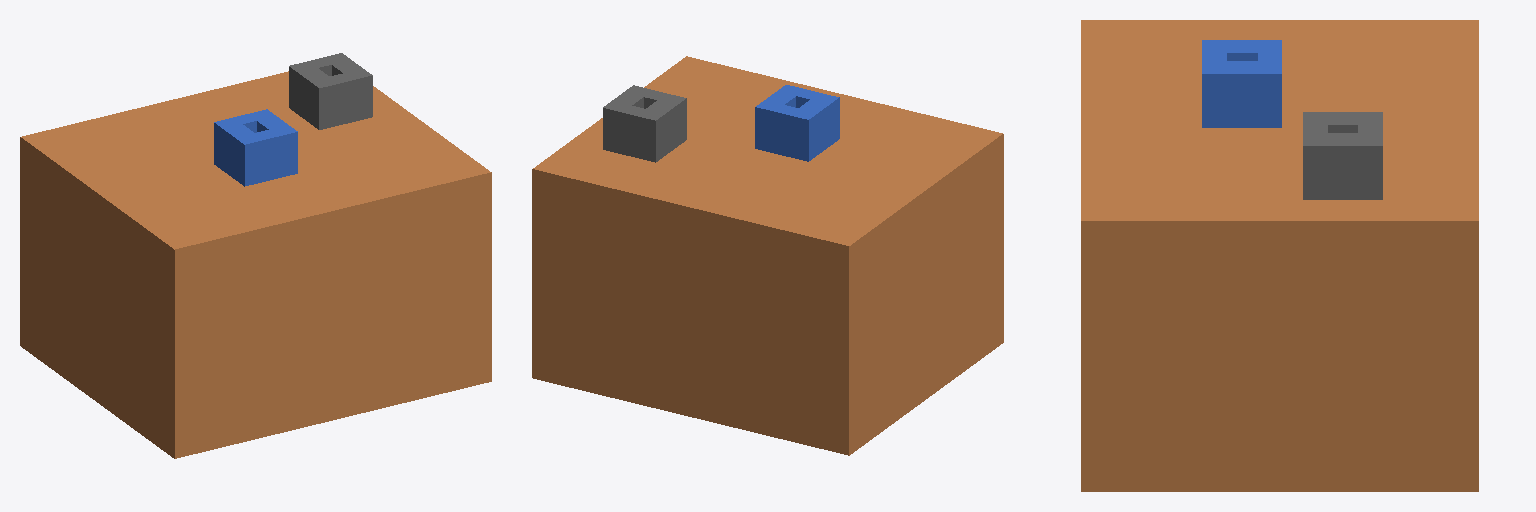
URDF robot description (peg_in_hole_fixtured_scene_0027_peg0009_tol00):
<?xml version="1.0"?>
<robot name="peg_in_hole_fixtured_scene_0027_peg0009_tol00">
  <material name="wood"><color rgba="0.82 0.56 0.35 1.0"/></material>
  <material name="start_fix"><color rgba="0.30 0.50 0.85 1.0"/></material>
  <material name="goal_fix"><color rgba="0.4706 0.4706 0.4706 1.0"/></material>
  <link name="box">
    <visual>
      <origin xyz="0.000000 0.000000 0.000000" rpy="0 0 0"/>
      <geometry><box size="0.475000 0.400000 0.300000"/></geometry>
      <material name="wood"/>
    </visual>
    <collision>
      <origin xyz="0.000000 0.000000 0.000000" rpy="0 0 0"/>
      <geometry><box size="0.475000 0.400000 0.300000"/></geometry>
    </collision>
    <visual>
      <origin xyz="-0.022136 -0.038031 0.155000" rpy="0 0 0"/>
      <geometry><box size="0.080000 0.080000 0.010000"/></geometry>
      <material name="start_fix"/>
    </visual>
    <collision>
      <origin xyz="-0.022136 -0.038031 0.155000" rpy="0 0 0"/>
      <geometry><box size="0.080000 0.080000 0.010000"/></geometry>
    </collision>
    <visual>
      <origin xyz="0.003114 -0.038031 0.185000" rpy="0 0 0"/>
      <geometry><box size="0.029500 0.080000 0.050000"/></geometry>
      <material name="start_fix"/>
    </visual>
    <collision>
      <origin xyz="0.003114 -0.038031 0.185000" rpy="0 0 0"/>
      <geometry><box size="0.029500 0.080000 0.050000"/></geometry>
    </collision>
    <visual>
      <origin xyz="-0.047386 -0.038031 0.185000" rpy="0 0 0"/>
      <geometry><box size="0.029500 0.080000 0.050000"/></geometry>
      <material name="start_fix"/>
    </visual>
    <collision>
      <origin xyz="-0.047386 -0.038031 0.185000" rpy="0 0 0"/>
      <geometry><box size="0.029500 0.080000 0.050000"/></geometry>
    </collision>
    <visual>
      <origin xyz="-0.022136 -0.010281 0.185000" rpy="0 0 0"/>
      <geometry><box size="0.021000 0.024500 0.050000"/></geometry>
      <material name="start_fix"/>
    </visual>
    <collision>
      <origin xyz="-0.022136 -0.010281 0.185000" rpy="0 0 0"/>
      <geometry><box size="0.021000 0.024500 0.050000"/></geometry>
    </collision>
    <visual>
      <origin xyz="-0.022136 -0.065781 0.185000" rpy="0 0 0"/>
      <geometry><box size="0.021000 0.024500 0.050000"/></geometry>
      <material name="start_fix"/>
    </visual>
    <collision>
      <origin xyz="-0.022136 -0.065781 0.185000" rpy="0 0 0"/>
      <geometry><box size="0.021000 0.024500 0.050000"/></geometry>
    </collision>
    <visual>
      <origin xyz="0.148422 0.063166 0.155000" rpy="0 0 0"/>
      <geometry><box size="0.080000 0.080000 0.010000"/></geometry>
      <material name="goal_fix"/>
    </visual>
    <collision>
      <origin xyz="0.148422 0.063166 0.155000" rpy="0 0 0"/>
      <geometry><box size="0.080000 0.080000 0.010000"/></geometry>
    </collision>
    <visual>
      <origin xyz="0.173522 0.063166 0.185000" rpy="0 0 0"/>
      <geometry><box size="0.029800 0.080000 0.050000"/></geometry>
      <material name="goal_fix"/>
    </visual>
    <collision>
      <origin xyz="0.173522 0.063166 0.185000" rpy="0 0 0"/>
      <geometry><box size="0.029800 0.080000 0.050000"/></geometry>
    </collision>
    <visual>
      <origin xyz="0.123322 0.063166 0.185000" rpy="0 0 0"/>
      <geometry><box size="0.029800 0.080000 0.050000"/></geometry>
      <material name="goal_fix"/>
    </visual>
    <collision>
      <origin xyz="0.123322 0.063166 0.185000" rpy="0 0 0"/>
      <geometry><box size="0.029800 0.080000 0.050000"/></geometry>
    </collision>
    <visual>
      <origin xyz="0.148422 0.090766 0.185000" rpy="0 0 0"/>
      <geometry><box size="0.020400 0.024800 0.050000"/></geometry>
      <material name="goal_fix"/>
    </visual>
    <collision>
      <origin xyz="0.148422 0.090766 0.185000" rpy="0 0 0"/>
      <geometry><box size="0.020400 0.024800 0.050000"/></geometry>
    </collision>
    <visual>
      <origin xyz="0.148422 0.035566 0.185000" rpy="0 0 0"/>
      <geometry><box size="0.020400 0.024800 0.050000"/></geometry>
      <material name="goal_fix"/>
    </visual>
    <collision>
      <origin xyz="0.148422 0.035566 0.185000" rpy="0 0 0"/>
      <geometry><box size="0.020400 0.024800 0.050000"/></geometry>
    </collision>
    <inertial>
      <mass value="500"/>
      <friction value="1.0"/>
      <inertia ixx="1000.0" ixy="0.0" ixz="0.0" iyy="1000.0" iyz="0.0" izz="1000.0"/>
    </inertial>
  </link>
</robot>

--- What the picture shows (computed from the rendered views, not written in the file) ---
3 views of the same robot in one strip: view 1: azimuth 30°, elevation 25°; view 2: azimuth 150°, elevation 25°; view 3: azimuth 270°, elevation 25° (orthographic).
Model peg_in_hole_fixtured_scene_0027_peg0009_tol00 with 1 links and 0 joints (none), rooted at box, posed all joints at 0.
Links seen in each view (by area): view 1: box; view 2: box; view 3: box.
Boxes of the visible links, x1=… form: box: x1=20, y1=53, x2=491, y2=458; box: x1=532, y1=56, x2=1003, y2=455; box: x1=1081, y1=20, x2=1478, y2=491.
Size in the robot's own frame: 0.475 by 0.4 by 0.36 metres.
Geometry: primitives only (box / cylinder / sphere), no mesh files.
